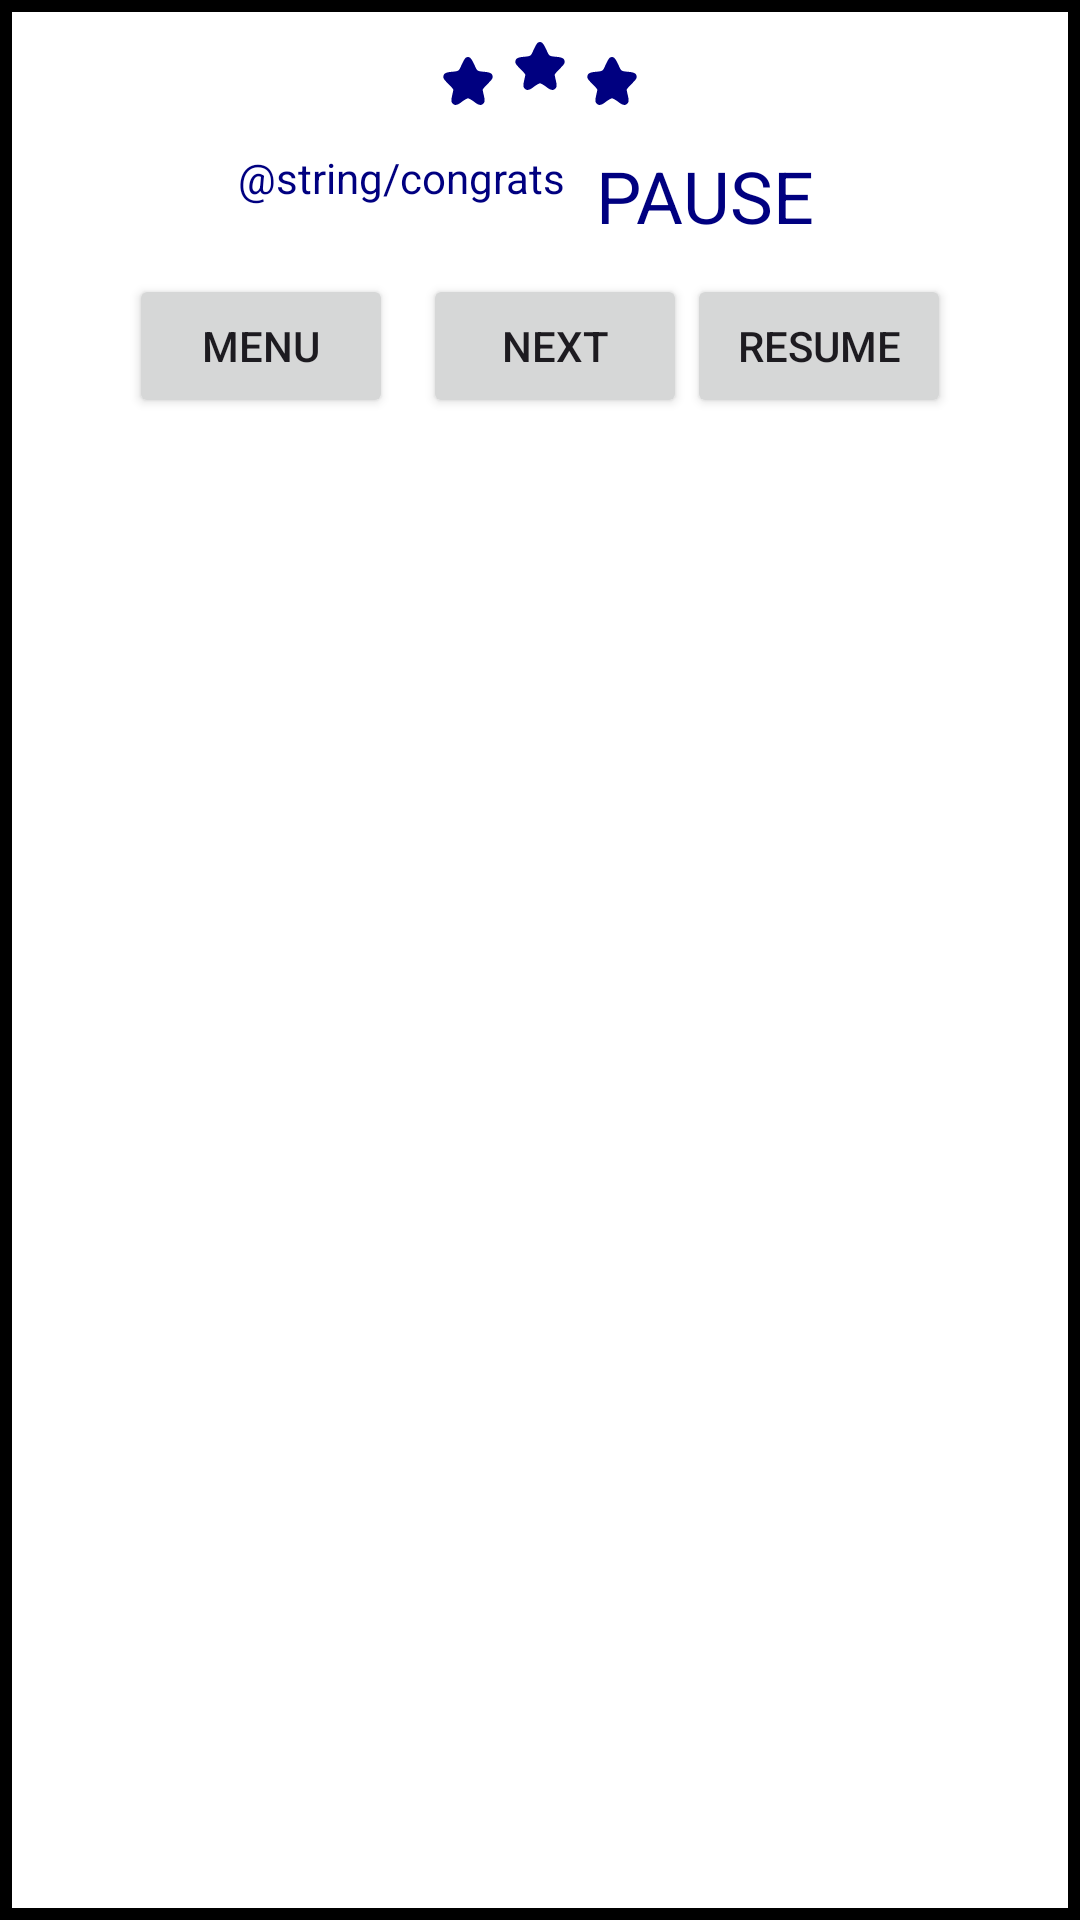

Screen size 1080px x 1920px. Icon name, then its box in pixels as rect(x1, y1, x2, y2):
star: rect(515, 42, 565, 90), rect(443, 57, 493, 105), rect(587, 57, 637, 105)
